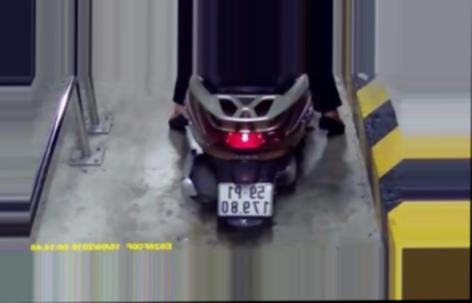License_Plate: (214, 178, 278, 222)
